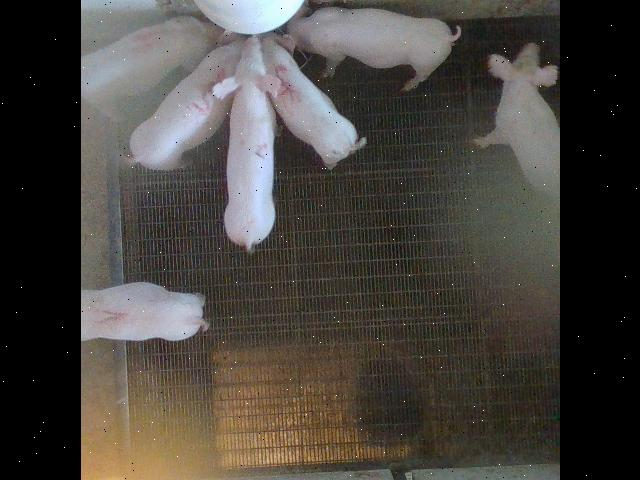pig-1: (82, 282, 206, 340)
pig-3: (129, 40, 242, 170)
pig-4: (81, 16, 221, 119)
pig-5: (261, 39, 365, 169)
